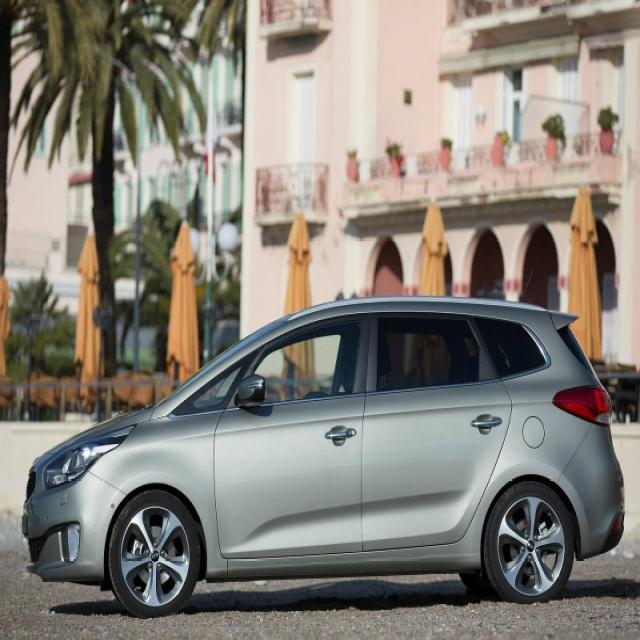back_left_side_light: (552, 380, 614, 429)
door: (360, 309, 517, 556)
front_bumper: (21, 468, 130, 582)
front_left_side_door: (212, 308, 373, 562)
front_left_side_light: (41, 422, 138, 494)
front_left_side_mirror: (235, 371, 267, 412)
rear_bumper: (556, 421, 627, 562)
wheel: (110, 488, 200, 619), (489, 481, 574, 601)
